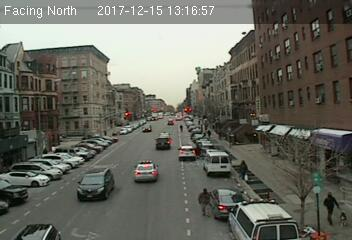car: (75, 168, 115, 200), (205, 189, 249, 218), (177, 145, 198, 161), (155, 137, 171, 150)
pedestrian: (323, 190, 339, 230), (238, 157, 250, 182)
police: (228, 197, 302, 240), (132, 159, 162, 184)
truck: (204, 151, 230, 174)
